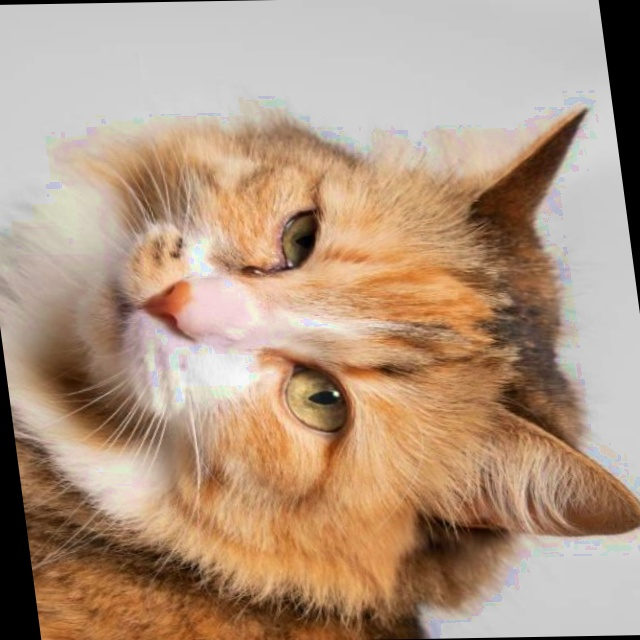eye_infection: (237, 216, 333, 280)
